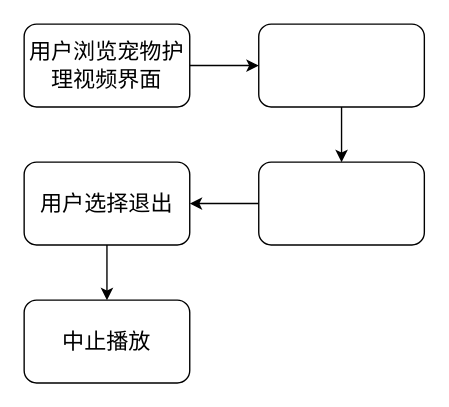
This 449x407 diagram has some shape labels left out. Each missing label, with the centre of its shape:
点击播放某个视频: (x=340, y=65)
系统播放视频: (x=340, y=203)
